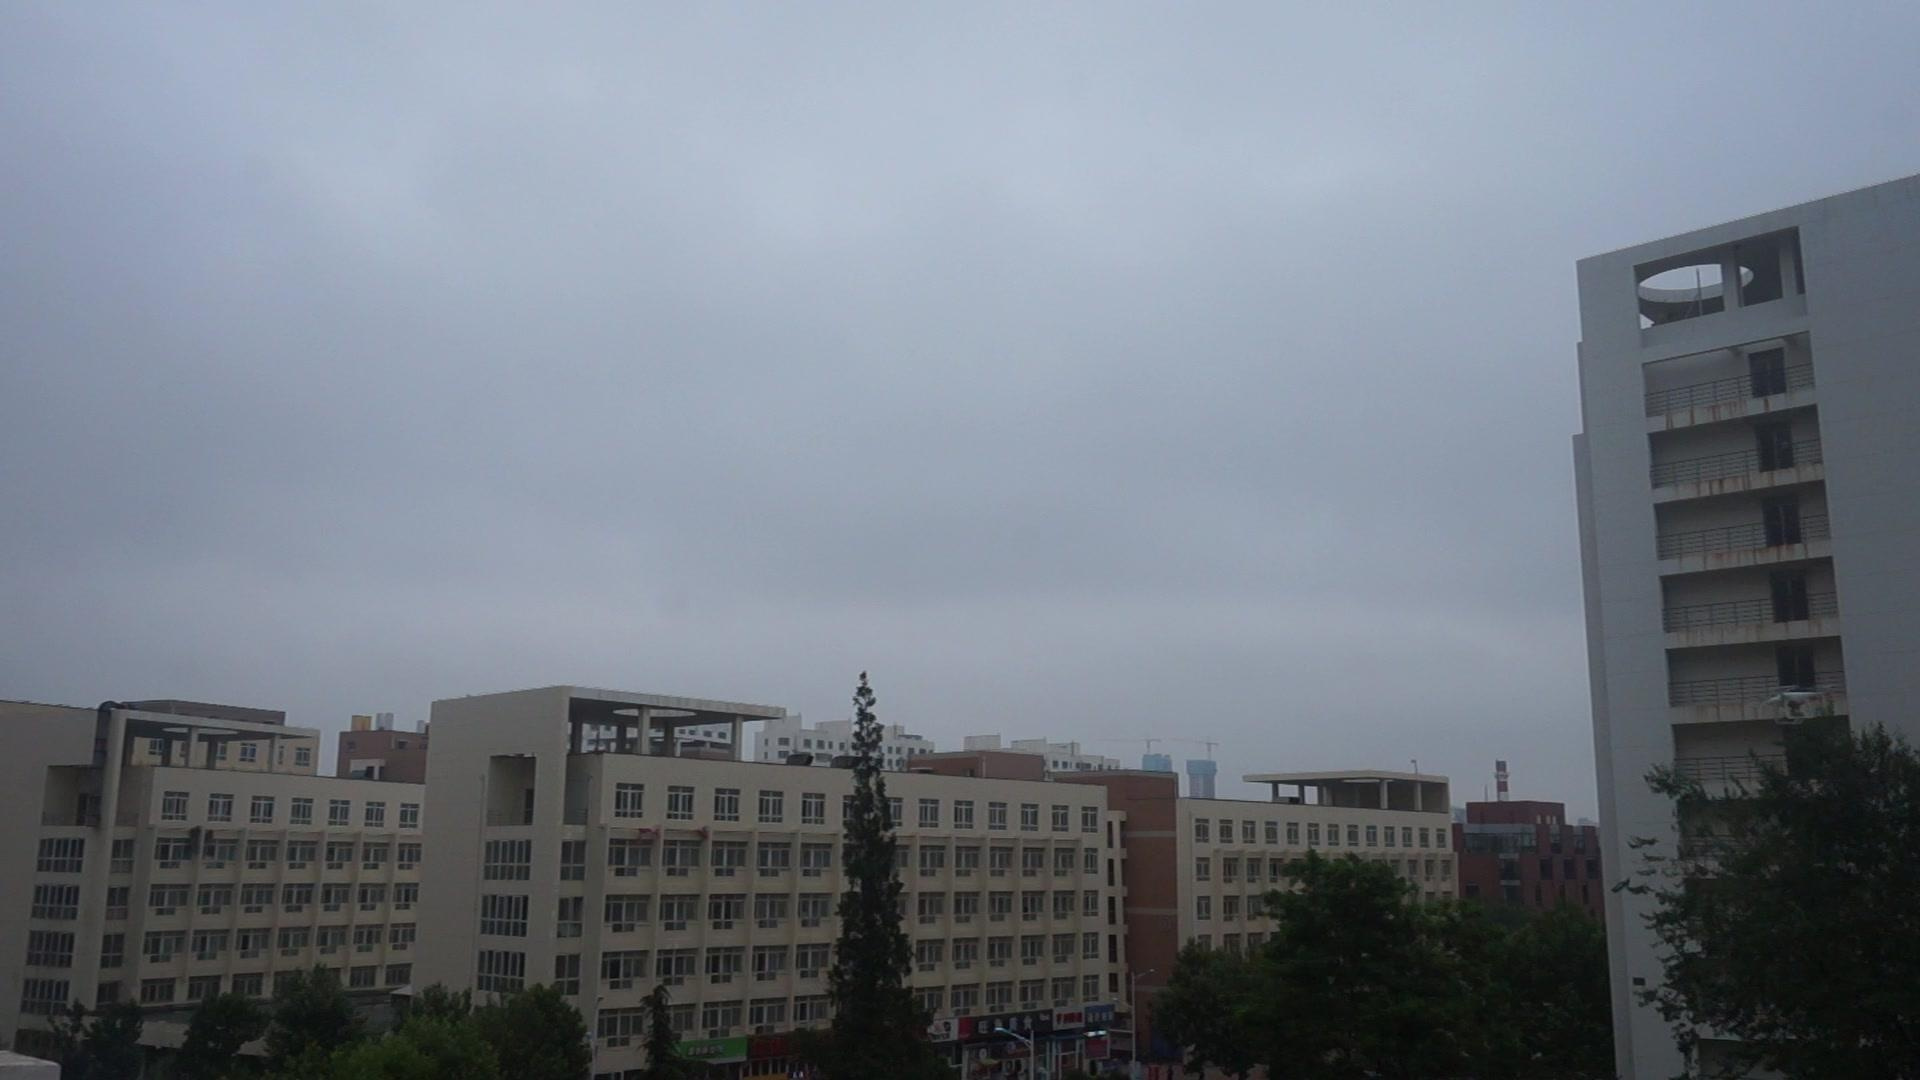UAV: (1767, 686, 1832, 727)
